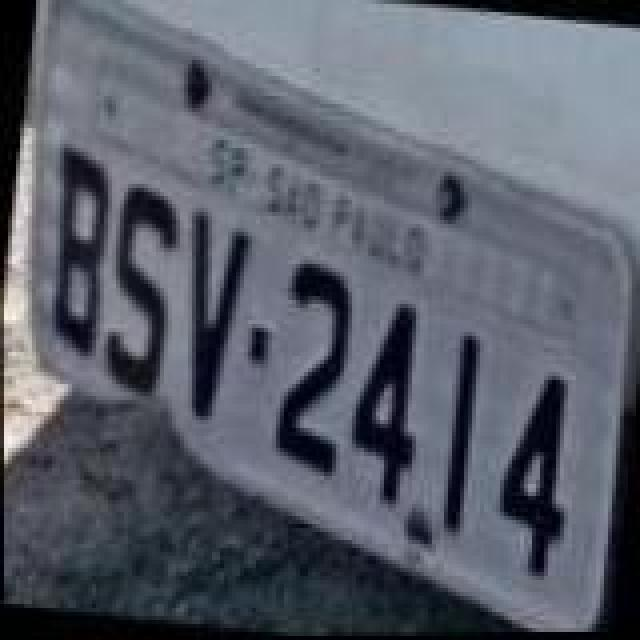1: (432, 328, 484, 540)
2: (268, 256, 360, 480)
4: (486, 372, 582, 584), (340, 298, 432, 510)
B: (36, 146, 120, 366)
S: (98, 186, 186, 402)
V: (168, 210, 252, 426)
